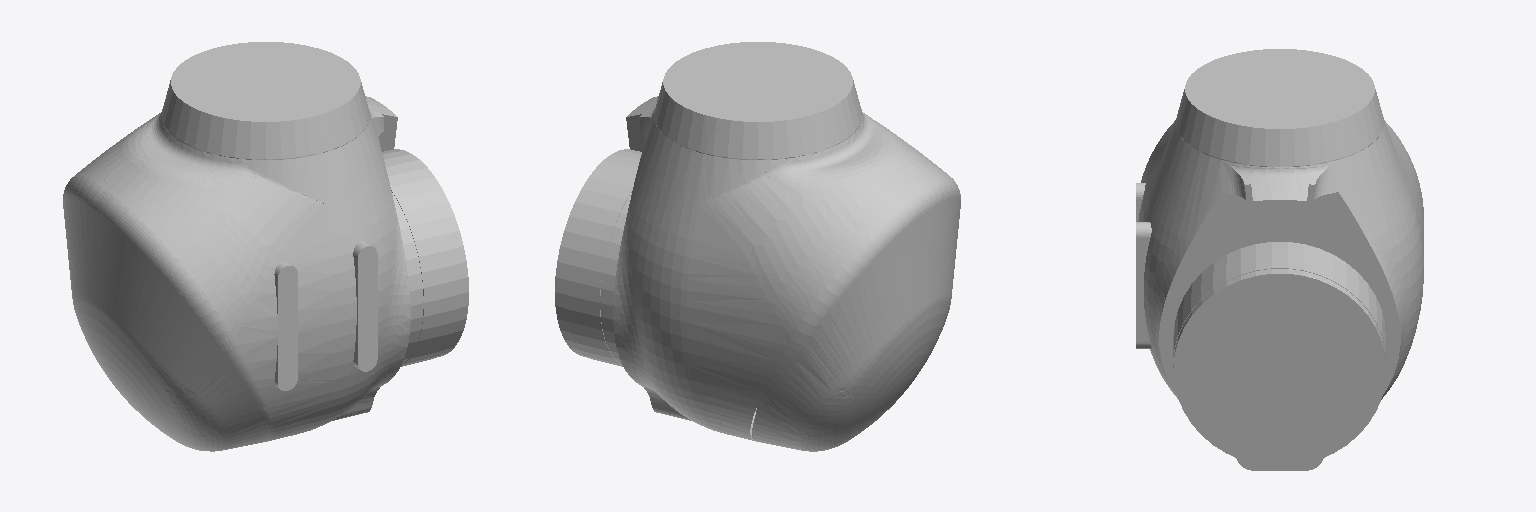
The picture shows the model from 3 angles: view 1: azimuth 30°, elevation 25°; view 2: azimuth 150°, elevation 25°; view 3: azimuth 270°, elevation 25°; orthographic projection.
Visible parts, largest first — view 1: transform8; view 2: transform8; view 3: transform8.
Boxes of the visible parts, box(x1,y1,x2,y2) form: transform8: box(63, 42, 468, 451); transform8: box(555, 42, 960, 451); transform8: box(1136, 49, 1423, 470).
Size of the model in its own units: 32.05 by 32.9 by 25.